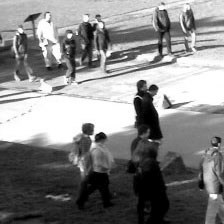person: (79, 131, 112, 208), (199, 136, 224, 224), (141, 143, 168, 224), (130, 125, 153, 215), (71, 122, 93, 203), (37, 10, 63, 69), (152, 1, 175, 57), (144, 83, 164, 144), (12, 24, 31, 82), (179, 2, 199, 55), (134, 79, 148, 141), (61, 29, 76, 84), (78, 13, 92, 68), (100, 21, 111, 81)
